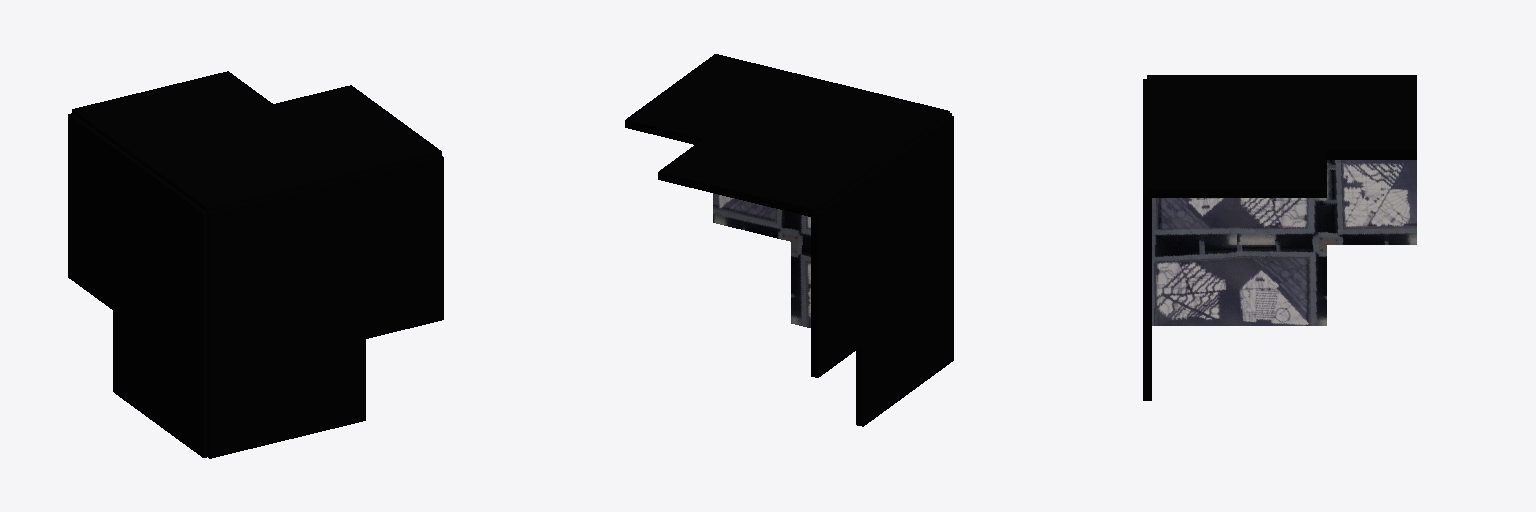
3 renders of one model, left to right at view 1: azimuth 30°, elevation 25°; view 2: azimuth 150°, elevation 25°; view 3: azimuth 270°, elevation 25°, orthographic.
Parts seen in each view (by area): view 1: Left_Cube.015, Right_Cube.014, top_Cube.016; view 2: Right_Cube.014, top_Cube.016, Left_Cube.015; view 3: Right_Cube.014, top_Cube.016, Left_Cube.015.
Boxes of the visible parts, <box> form: Left_Cube.015: <box>207,155,443,458</box>; Right_Cube.014: <box>68,113,206,457</box>; top_Cube.016: <box>72,71,441,211</box>; Right_Cube.014: <box>811,115,953,426</box>; top_Cube.016: <box>625,54,949,217</box>; Left_Cube.015: <box>713,113,951,327</box>; Right_Cube.014: <box>1152,160,1416,325</box>; top_Cube.016: <box>1147,75,1416,197</box>; Left_Cube.015: <box>1143,79,1151,400</box>.
Size of the model in its own units: 6.1 by 6.1 by 6.1.
3 materials, 1 textured.